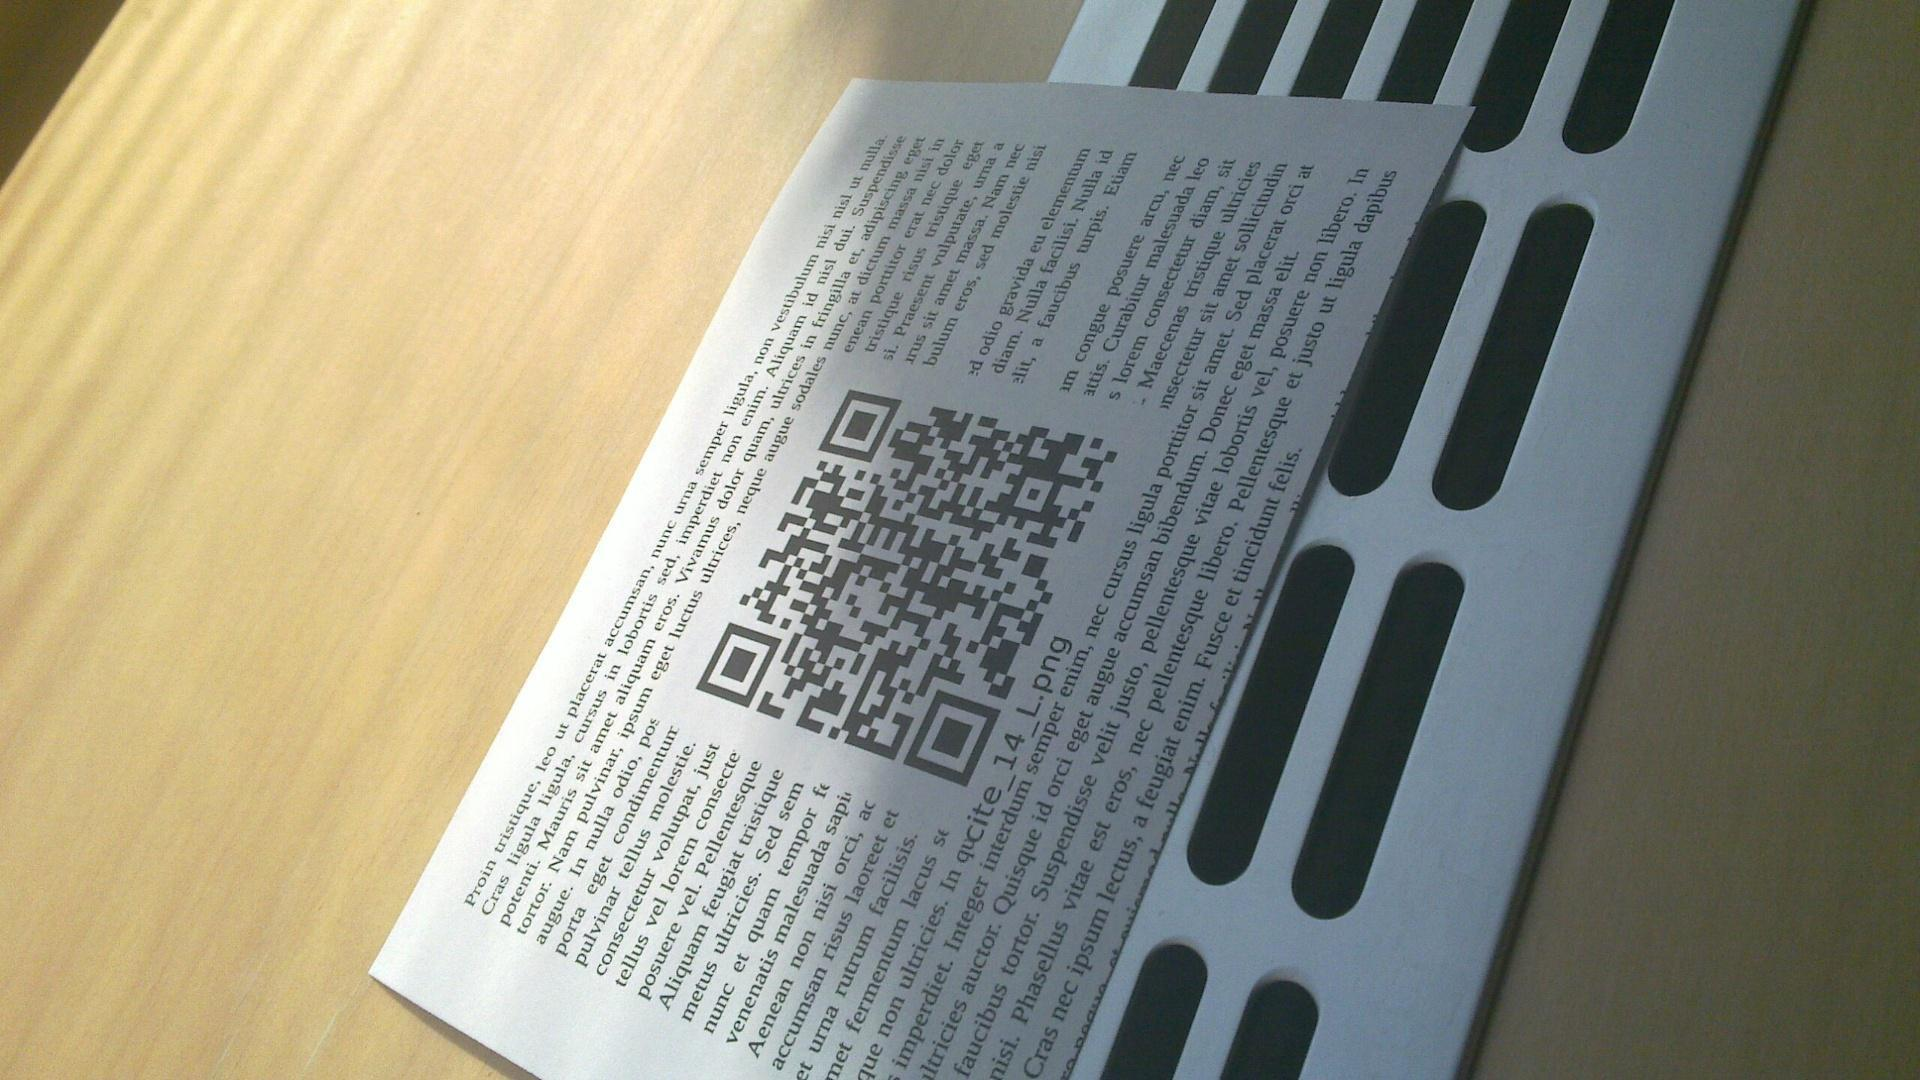Finder pattern: (910, 692, 1001, 785), (699, 622, 774, 709), (820, 386, 897, 464)
